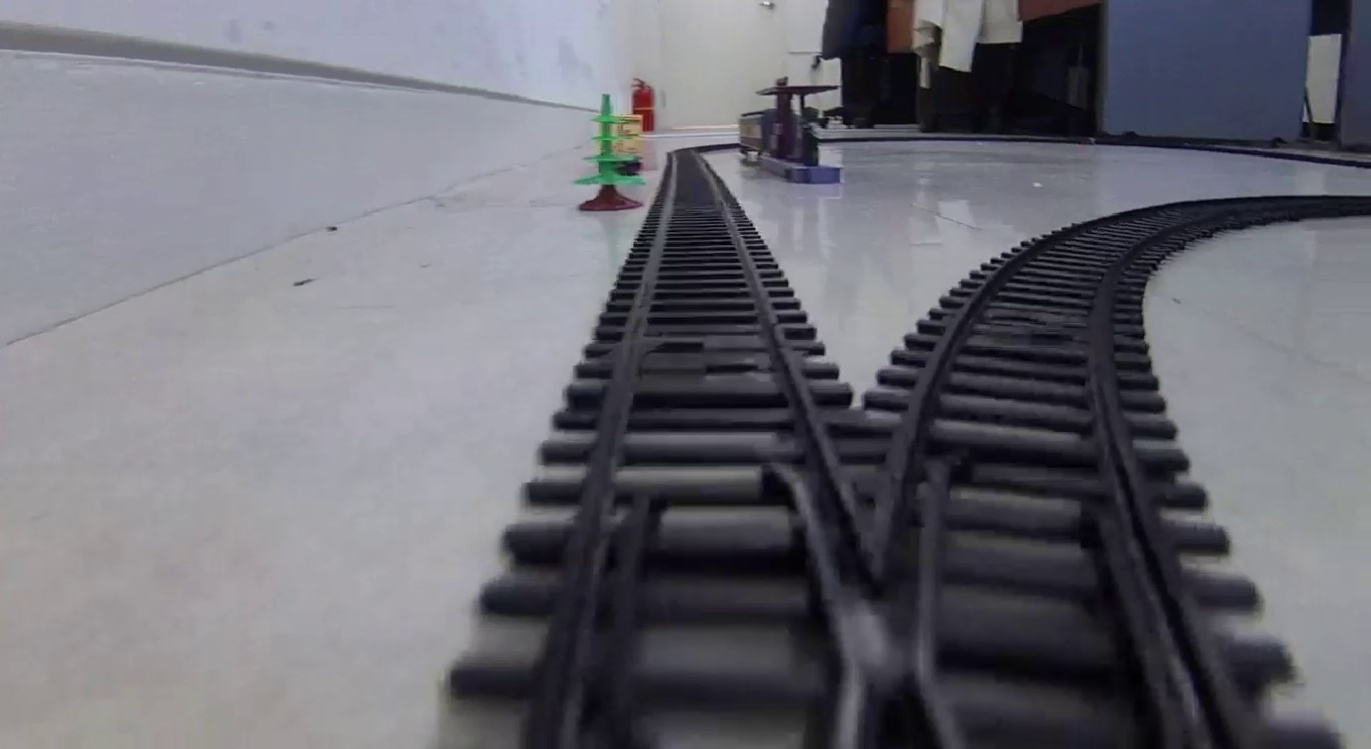tree: (569, 95, 648, 211)
